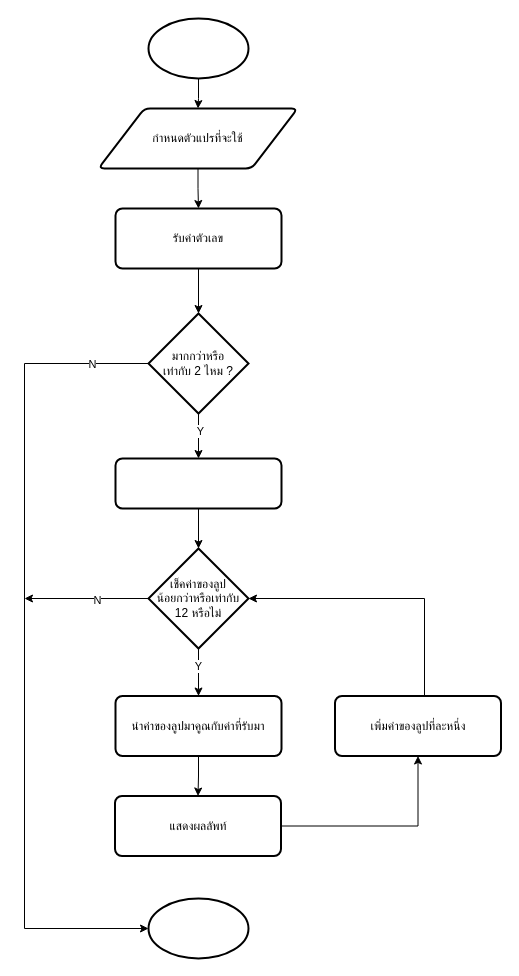
Some shapes in this 519 by 976 pixel diagram are drawn without their labels. Each missing label, with the centre of its shape:
"กำหนดลูปที่จะคูณ เท่ากับ 1" goes at (x=198, y=483).
"จบ" goes at (x=198, y=928).
"เริ่ม" goes at (x=198, y=48).
